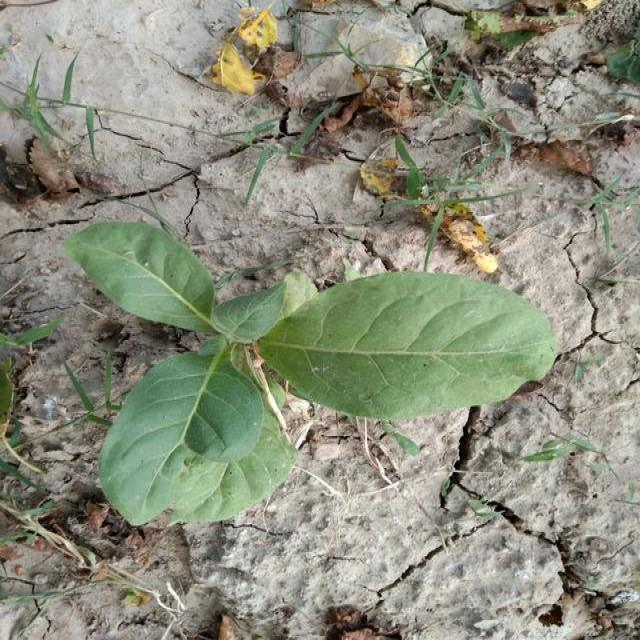crop: (59, 207, 555, 519)
